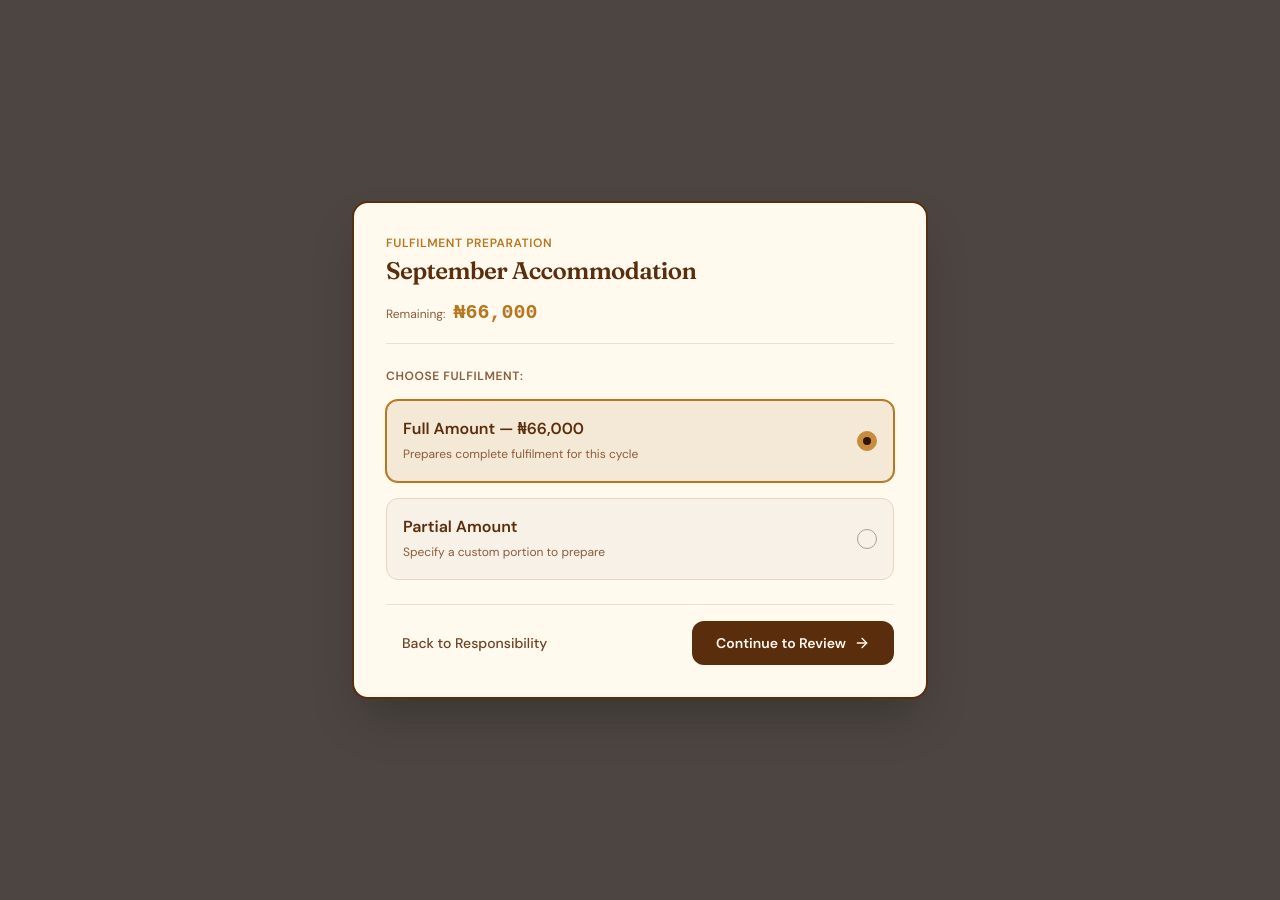
Scenario: H4D-FUNC-004: Accommodation Fulfilment Intent Preparation › 1. defaults full fulfilment to the remaining amount
The image size is (1280, 900).
Check: the text "Full Amount — ₦66,000" is shown, box [403,418,584,439]
Click "Continue to Review"
Click the button "Continue to Review" at (793, 643), box [692,621,894,665]
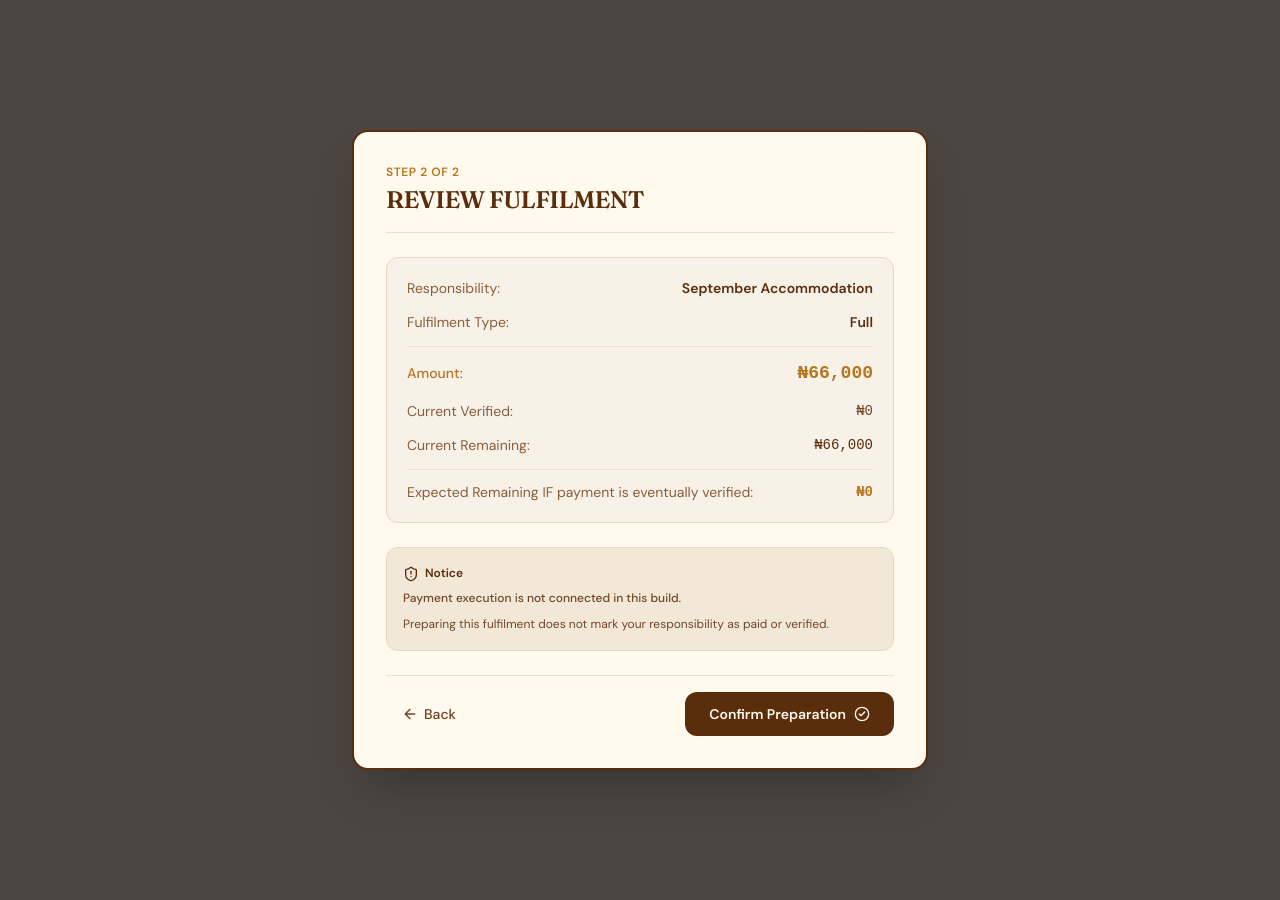
Check: the text "₦66,000" in the row of "Amount:" is shown, box [797,363,873,383]
Check: the heading "REVIEW FULFILMENT" is shown, box [386,185,644,214]
Check: the text "Full" is shown, box [850,312,873,332]
